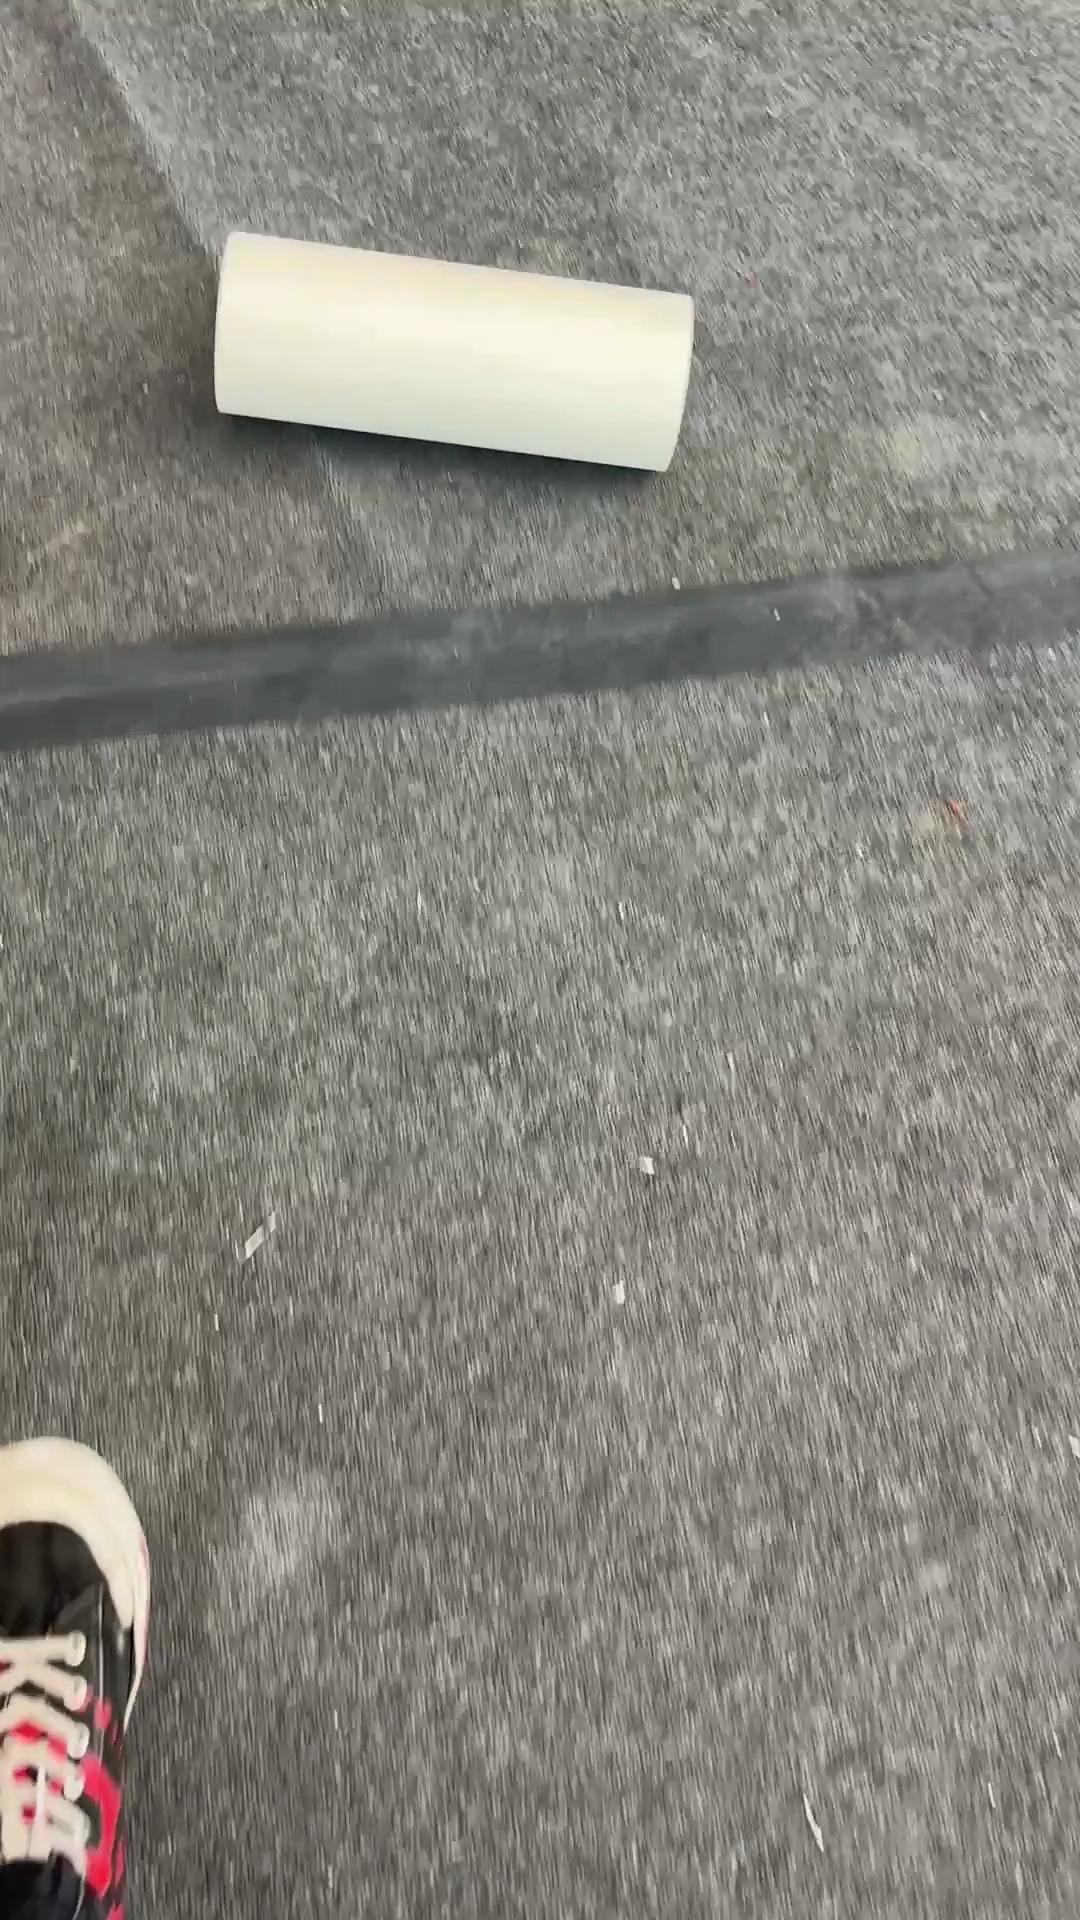CORAL: (210, 225, 696, 473)
